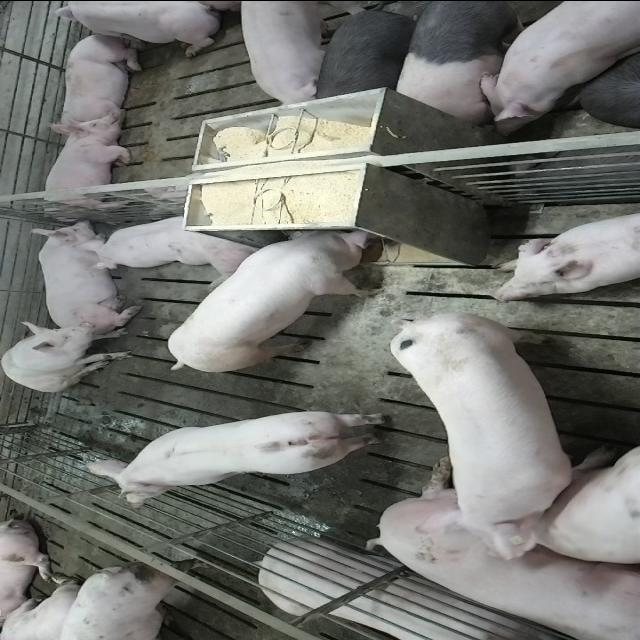Feeding: (166, 218, 389, 368)
Lateral_lying: (362, 454, 636, 637), (256, 537, 604, 640)
Sitting: (2, 319, 138, 392)
Standing: (383, 312, 603, 564), (83, 406, 397, 506), (472, 2, 640, 136), (392, 2, 564, 128), (540, 424, 636, 564), (311, 2, 419, 104), (240, 3, 336, 111)
Sternal_lying: (491, 207, 640, 300), (26, 218, 137, 327), (84, 210, 262, 272), (42, 3, 232, 56), (37, 116, 135, 215), (51, 32, 146, 130)
